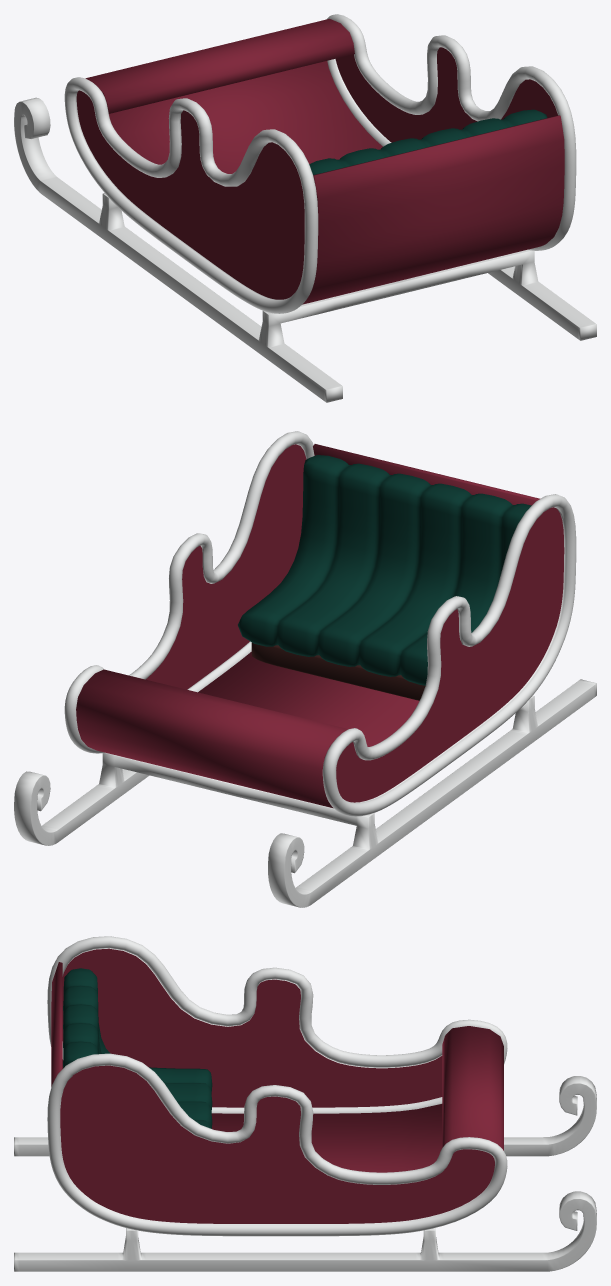
File: sleigh.fbx
The picture shows the model from 3 angles, top to bottom: view 1: azimuth 30°, elevation 25°; view 2: azimuth 150°, elevation 25°; view 3: azimuth 270°, elevation 25°; orthographic projection. The views are drawn at different scales.
Parts seen in each view (by area): view 1: sleigh; view 2: sleigh; view 3: sleigh.
Boxes of the visible parts, box(x1,y1,x2,y2) form: sleigh: box(14, 14, 596, 402); sleigh: box(14, 431, 596, 907); sleigh: box(14, 936, 596, 1271).
Bounding box in the file's own units: 1.86 × 1.51 × 3.72.
